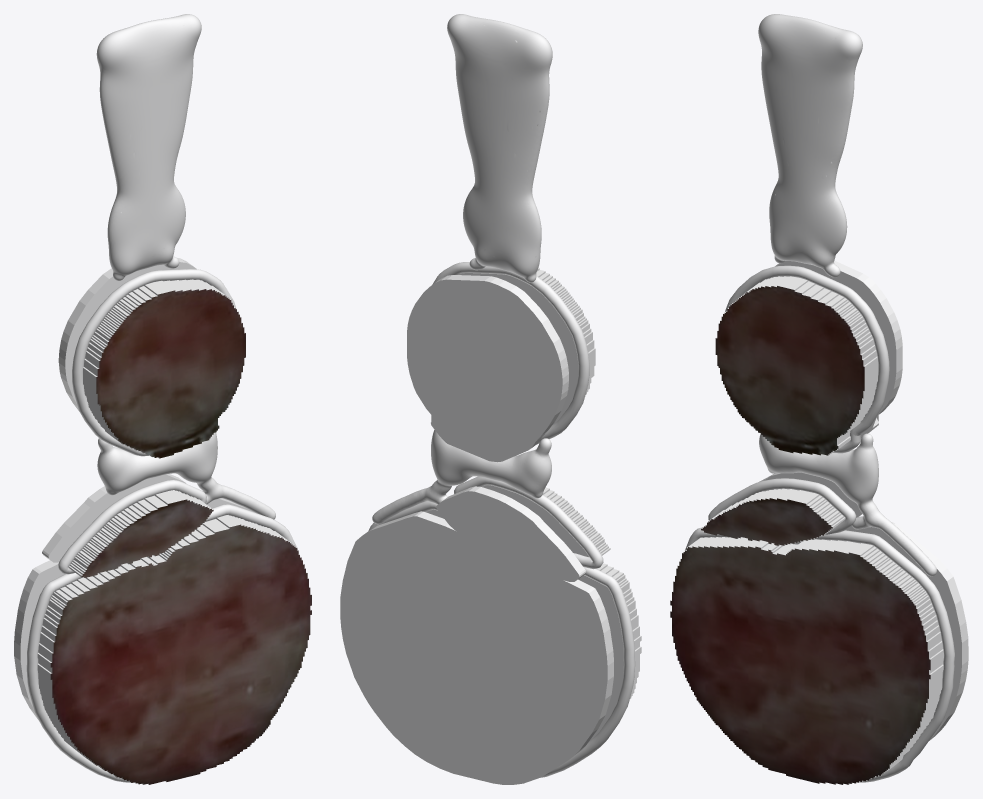
3 renders of one model, left to right at view 1: azimuth 30°, elevation 25°; view 2: azimuth 150°, elevation 25°; view 3: azimuth 330°, elevation 25°, orthographic.
Parts seen in each view (by area): view 1: joya; view 2: joya; view 3: joya.
Part boxes in pixels (x1,y1,x2,y2): joya: (14, 14, 311, 784); joya: (340, 14, 641, 784); joya: (670, 14, 968, 784).
Bounding box in the file's own units: 0.0148 × 0.0383 × 0.00325.
3 materials, 1 textured.
